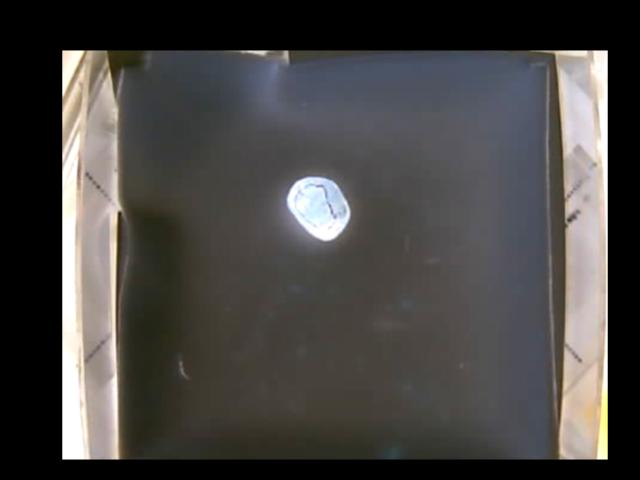Pebble: (287, 176, 352, 238)
